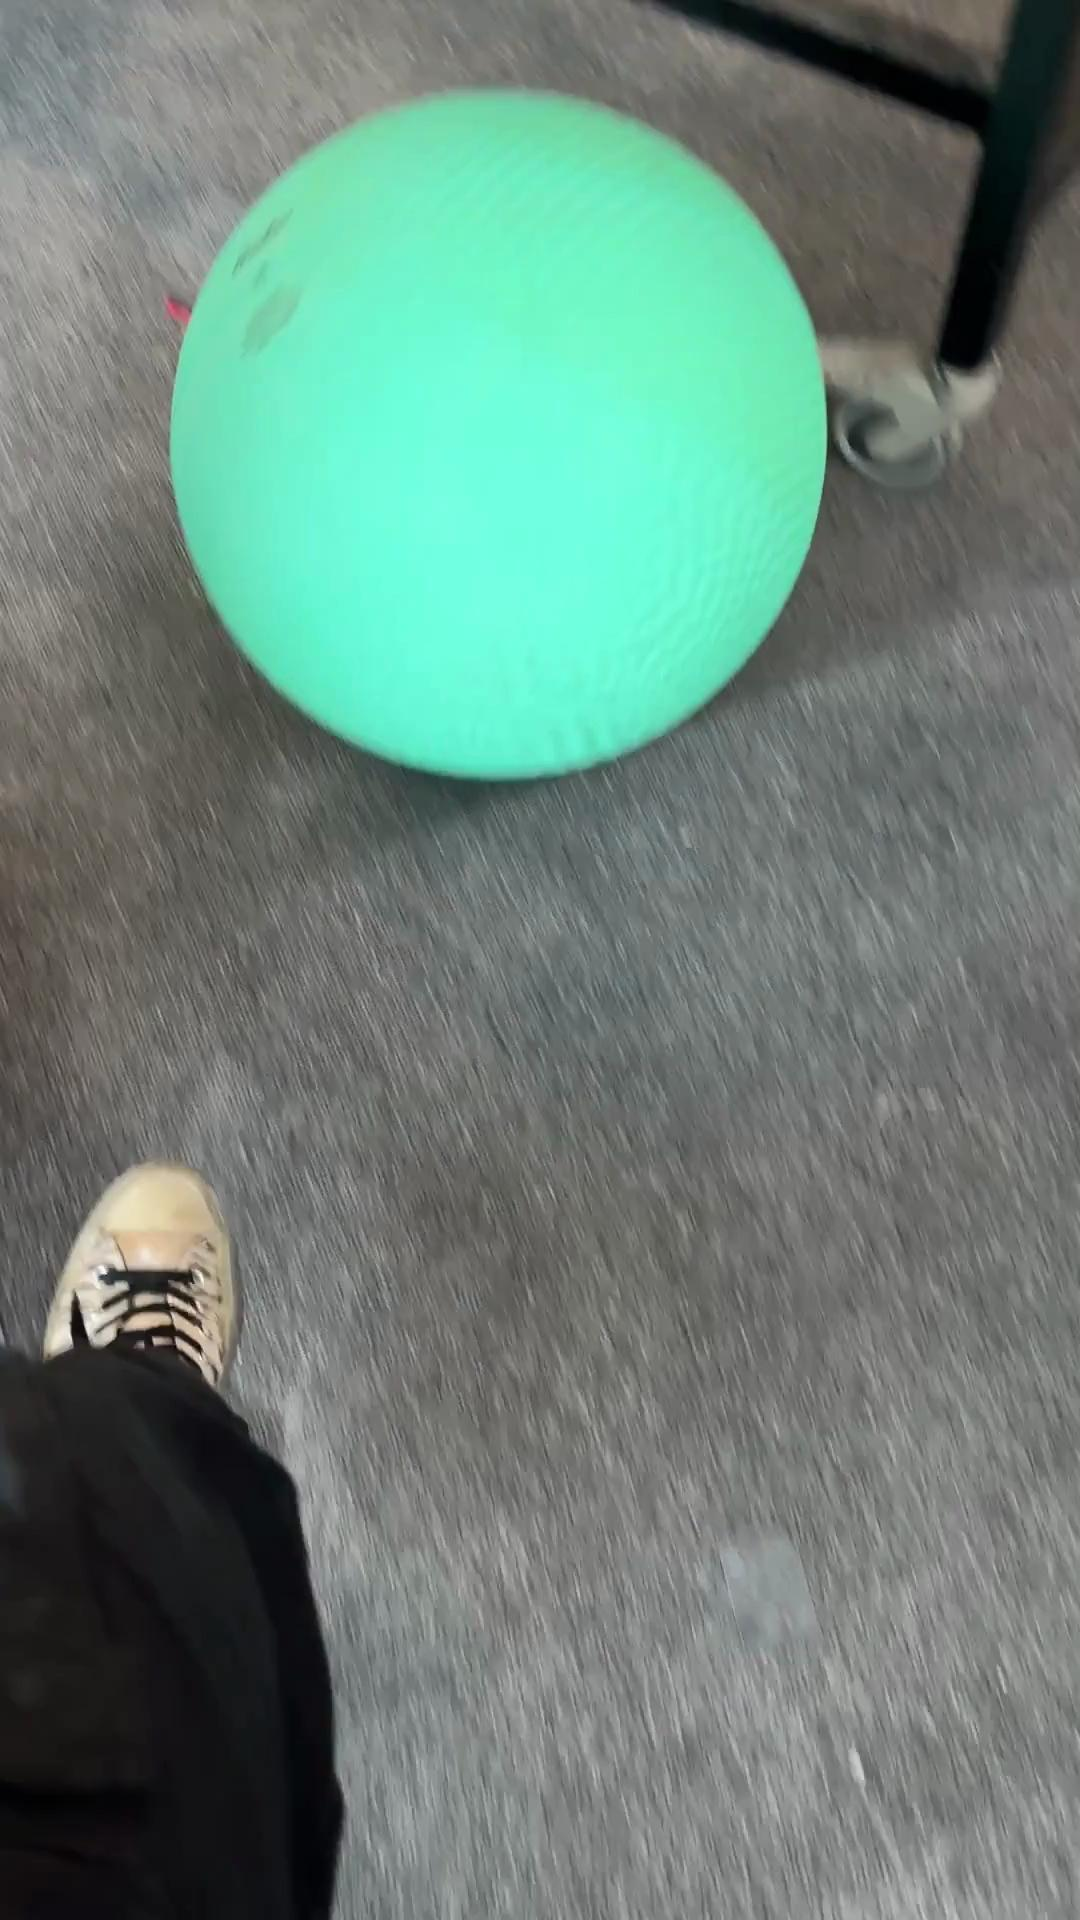ALGAE: (165, 84, 831, 785)
